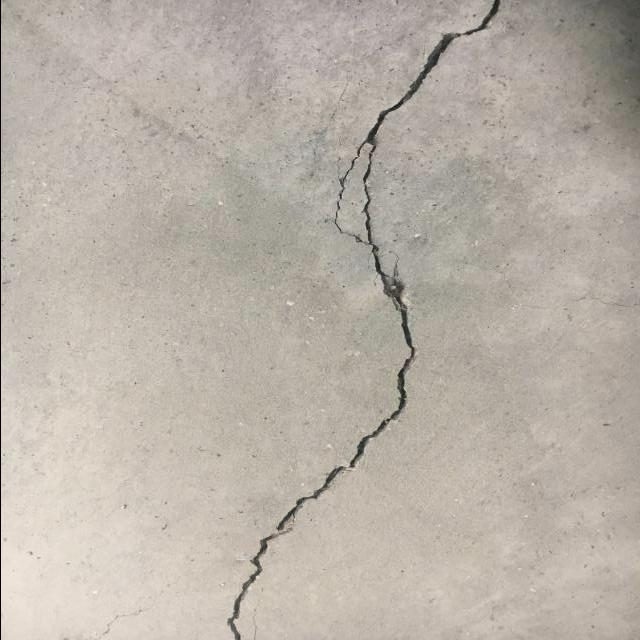SurfaceCrack: (189, 1, 441, 640)
